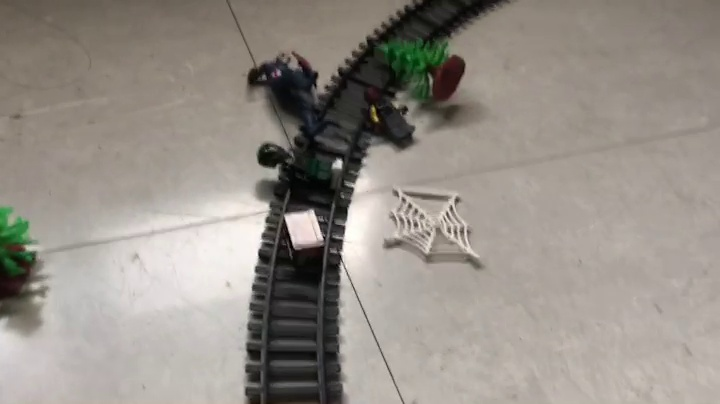box: (280, 205, 327, 269)
people: (248, 49, 329, 144), (256, 141, 347, 199), (362, 84, 416, 149)
tree: (371, 37, 469, 104)
web: (382, 184, 482, 267)
